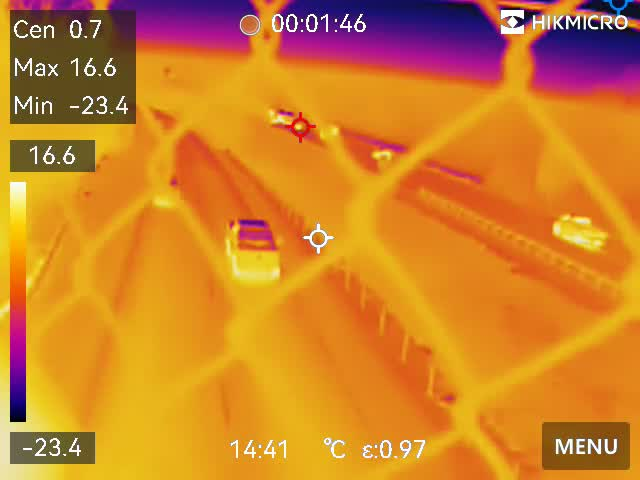lightTruck: (221, 215, 284, 287), (547, 208, 610, 252)
